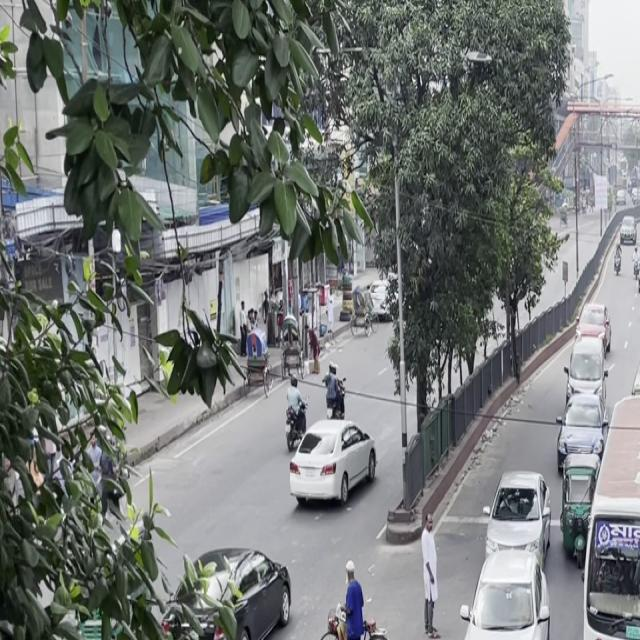bicycle: (311, 563, 401, 640)
bus: (575, 381, 640, 640)
car: (450, 527, 560, 640), (280, 410, 385, 524), (554, 389, 612, 473), (634, 256, 640, 298)
motorbike: (597, 307, 615, 360)
